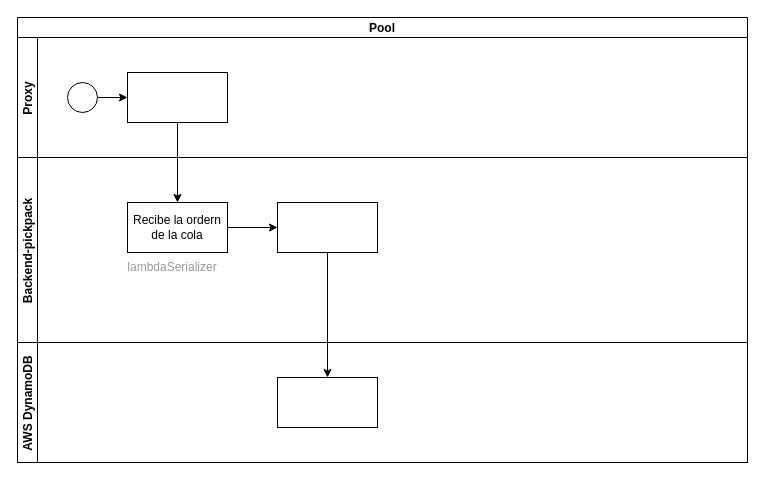
Some shapes in this 765 by 480 pixel diagram are drawn without their labels. The shapes that lost their labels are listed below. From the top down, each one's centre as x and y in pixels, then its label:
At point 177,97: "Proxy en cola la ordeb".
At point 327,227: "Guarda la orden en dynamoDB".
At point 327,402: "Guarda la orden en".
